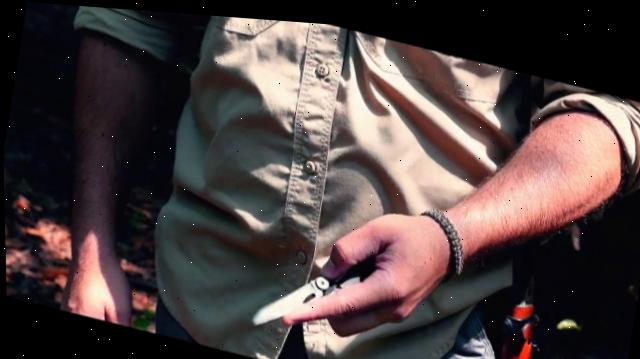pocket-knife: (241, 224, 426, 359)
